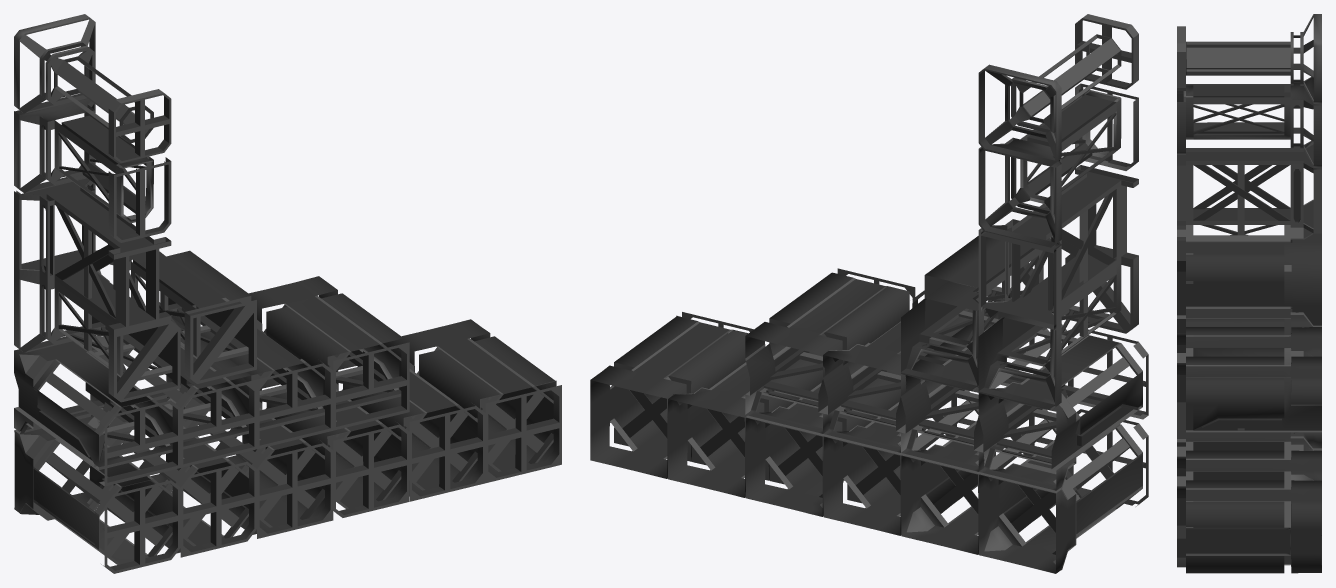
The model's file is girders.glb.
The picture shows the model from 3 angles, left to right: view 1: azimuth 30°, elevation 25°; view 2: azimuth 150°, elevation 25°; view 3: azimuth 270°, elevation 25°; orthographic projection. The views are drawn at different scales.
Visible parts, largest first — view 1: Wall Girder X-6, Wall Girder X-1, Wall Girder T-1, Wall Girder T-4, Wall Girder I, Wall Girder C, Wall Girder L-2, Wall Girder X-5, Wall Girder L-1, Wall Girder X-3, Wall Girder O, Wall Girder X-4 (+3 smaller); view 2: Wall Girder X-6, Wall Girder T-4, Wall Girder T-1, Wall Girder X-1, Wall Girder I, Wall Girder C, Wall Girder L-2, Wall Girder X-5, Wall Girder L-1, Wall Girder O, Wall Girder X-3, Wall Girder X-4 (+3 smaller); view 3: Wall Girder X-6, Wall Girder T-4, Wall Girder L-2, Wall Girder I, Wall Girder C, Wall Girder O, Wall Girder X-5, Wall Girder T-3, Wall Girder X-4, Wall Girder T-2, Wall Girder L-1.
Boxes of the visible parts, box(x1,y1,x2,y2) form: Wall Girder X-6: box(402, 319, 561, 482); Wall Girder X-1: box(14, 416, 180, 573); Wall Girder T-1: box(14, 335, 180, 486); Wall Girder T-4: box(248, 276, 409, 430); Wall Girder I: box(14, 178, 171, 334); Wall Girder C: box(14, 98, 171, 242); Wall Girder L-2: box(95, 250, 256, 383); Wall Girder X-5: box(327, 360, 485, 501); Wall Girder L-1: box(14, 270, 180, 402); Wall Girder X-3: box(173, 397, 333, 538); Wall Girder O: box(14, 14, 171, 163); Wall Girder X-4: box(259, 378, 409, 517); Wall Girder X-6: box(590, 312, 753, 478); Wall Girder T-4: box(745, 268, 915, 436); Wall Girder T-1: box(978, 329, 1148, 493); Wall Girder X-1: box(979, 409, 1148, 573); Wall Girder I: box(978, 165, 1138, 329); Wall Girder C: box(978, 83, 1138, 247); Wall Girder L-2: box(901, 225, 1043, 391); Wall Girder X-5: box(668, 352, 822, 497); Wall Girder L-1: box(978, 254, 1138, 410); Wall Girder O: box(978, 14, 1138, 166); Wall Girder X-3: box(823, 390, 978, 535); Wall Girder X-4: box(745, 371, 900, 516); Wall Girder X-6: box(1177, 480, 1321, 573); Wall Girder T-4: box(1177, 356, 1321, 450); Wall Girder L-2: box(1177, 233, 1321, 326); Wall Girder I: box(1177, 140, 1321, 233); Wall Girder C: box(1177, 77, 1321, 167); Wall Girder O: box(1177, 14, 1321, 103); Wall Girder X-5: box(1177, 450, 1321, 535); Wall Girder T-3: box(1177, 327, 1321, 364); Wall Girder X-4: box(1177, 432, 1321, 458); Wall Girder T-2: box(1177, 309, 1312, 335); Wall Girder L-1: box(1177, 225, 1312, 241).
Size of the model in its own units: 6 by 6 by 2.06.
Materials: 2 (2 with a texture image).
